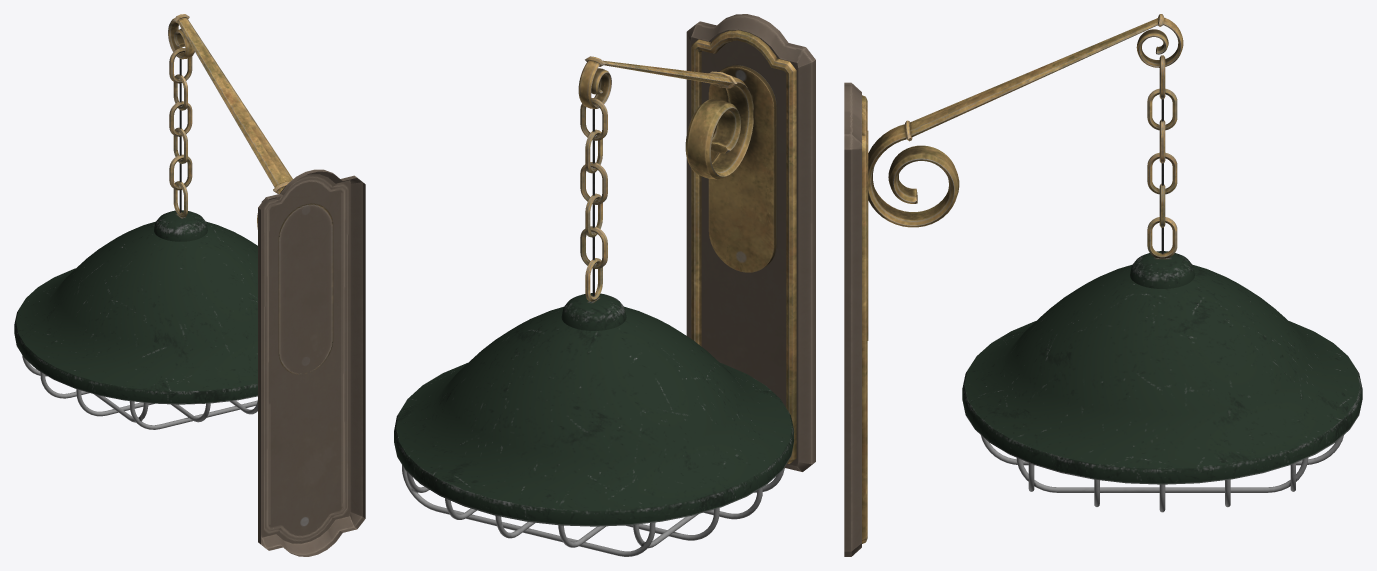
3 renders of one model, left to right at view 1: azimuth 30°, elevation 25°; view 2: azimuth 150°, elevation 25°; view 3: azimuth 270°, elevation 25°, orthographic. The views are drawn at different scales.
Parts seen in each view (by area): view 1: Lampara_Externa_Mat_Lamp_0; view 2: Lampara_Externa_Mat_Lamp_0; view 3: Lampara_Externa_Mat_Lamp_0.
Part boxes in pixels (<box>): Lampara_Externa_Mat_Lamp_0: <box>14,14,365,556</box>; Lampara_Externa_Mat_Lamp_0: <box>394,14,815,556</box>; Lampara_Externa_Mat_Lamp_0: <box>844,14,1362,556</box>.
Size of the model in its own units: 35.49 by 52.27 by 45.95.
2 materials, 1 textured.
